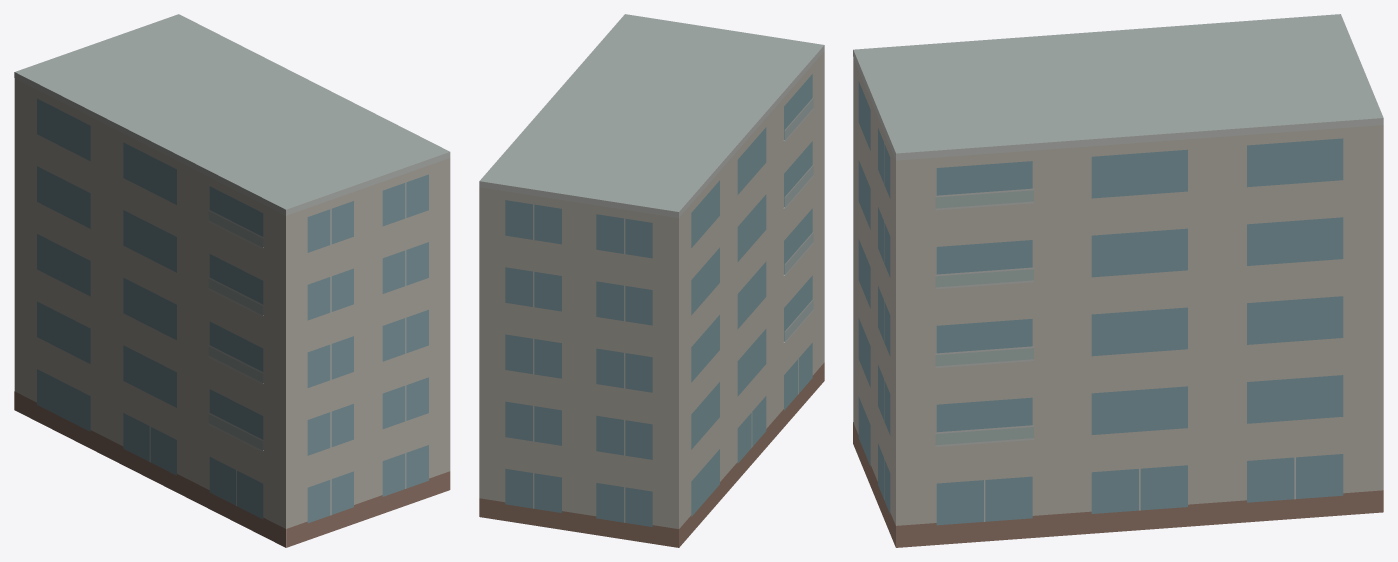
The model's file is survey-upis-32843667.glb.
3 views of the same model, side by side, from view 1: azimuth 30°, elevation 25°; view 2: azimuth 150°, elevation 25°; view 3: azimuth 270°, elevation 25° (orthographic). The views are drawn at different scales.
Parts seen in each view (by area): view 1: survey-upis-32843667.tmp; view 2: survey-upis-32843667.tmp; view 3: survey-upis-32843667.tmp.
Boxes of the visible parts, x1,y1,x2,y2 form: survey-upis-32843667.tmp: (14,14,450,547); survey-upis-32843667.tmp: (479,14,824,547); survey-upis-32843667.tmp: (853,14,1383,547).
Bounding box in the file's own units: 10.4 × 13.7 × 16.71.
